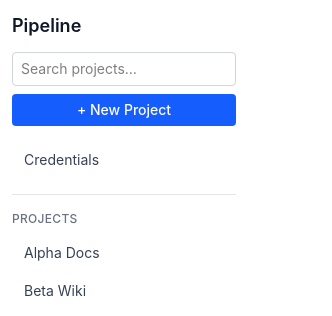
Test: PipelineSidebar › shows search, credentials, and filterable project list
The width and height of the screenshot is (332, 316).
Expected: the link "Alpha Docs" is shown, [24, 244, 100, 261]
Expected: the link "Beta Wiki" is shown, [24, 282, 86, 299]
In the search field labelled "Search projects…": x=124, y=69 [12, 52, 236, 86], type "beta"
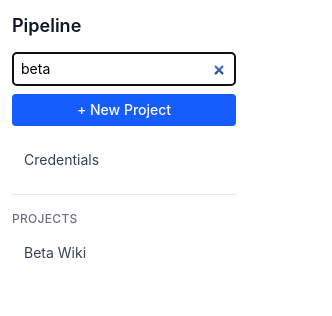
Expected: the link "Beta Wiki" is shown, [24, 244, 86, 261]
Now the link "Alpha Docs" is gone
